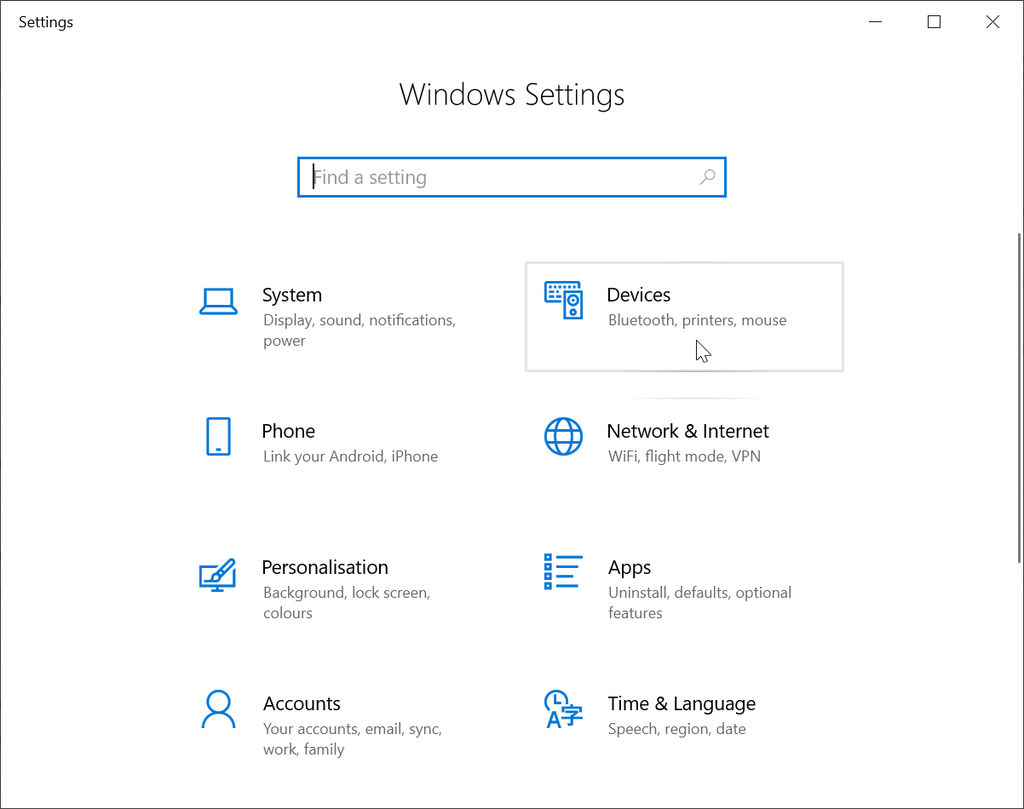button: (524, 258, 845, 372), (197, 280, 462, 351), (538, 550, 795, 623), (200, 686, 443, 759), (197, 553, 432, 623), (201, 411, 442, 473), (542, 411, 773, 470), (542, 687, 759, 745), (862, 8, 890, 30), (920, 8, 948, 30), (979, 8, 1007, 30)
container: (1, 40, 1024, 809), (1, 1, 1024, 40), (296, 155, 728, 199)
header: (395, 78, 627, 113), (14, 11, 80, 34)
